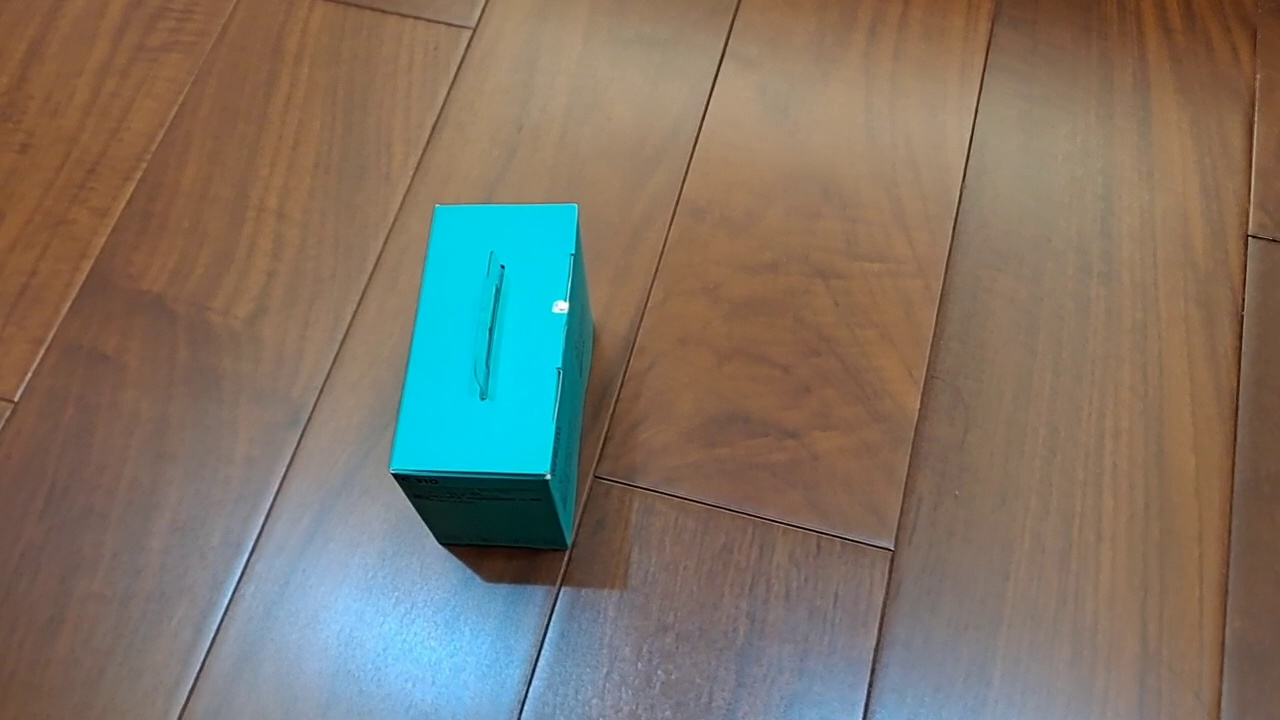webcam: (388, 201, 596, 552)
